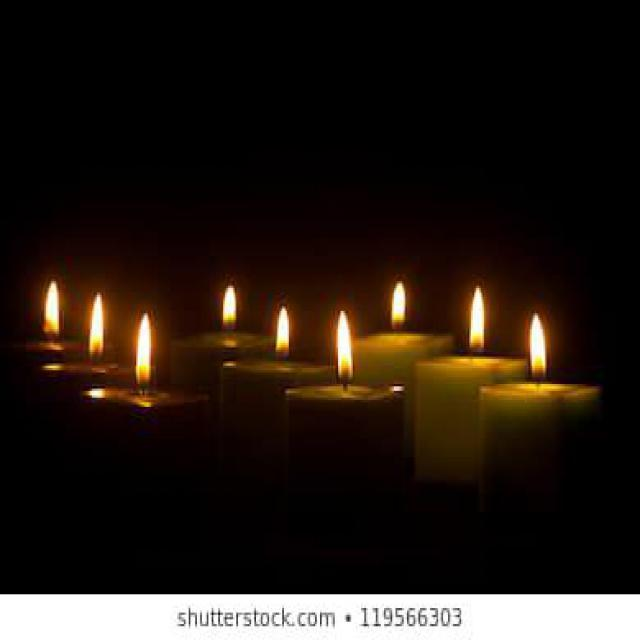Fire: (135, 313, 152, 389), (336, 312, 353, 385), (89, 294, 106, 358), (530, 316, 547, 380), (470, 288, 485, 354), (44, 281, 59, 341), (390, 284, 406, 332), (276, 306, 290, 359), (222, 284, 236, 332)
